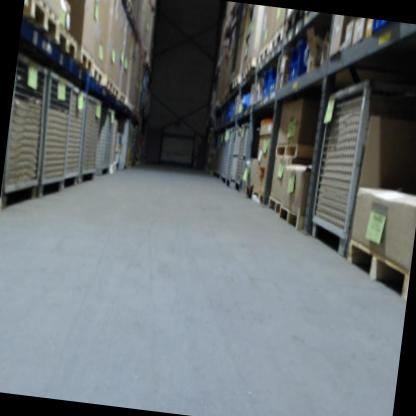pallet: (341, 240, 413, 301), (22, 0, 64, 46), (275, 137, 313, 161), (55, 29, 81, 59), (278, 206, 305, 230), (285, 8, 304, 34), (268, 24, 284, 54), (89, 63, 106, 86), (77, 48, 93, 72), (266, 195, 283, 213), (257, 43, 269, 66), (245, 56, 256, 77), (250, 191, 265, 204), (104, 77, 113, 93), (232, 74, 240, 91), (111, 85, 119, 98), (118, 93, 126, 104)
small_load_carrier: (289, 36, 312, 85), (267, 65, 283, 98), (260, 63, 273, 102)
stillage: (301, 72, 416, 268), (0, 46, 53, 226), (33, 65, 76, 209), (60, 81, 92, 195), (77, 95, 106, 191), (93, 104, 121, 176), (210, 125, 232, 183), (233, 121, 253, 180), (224, 125, 239, 192)
